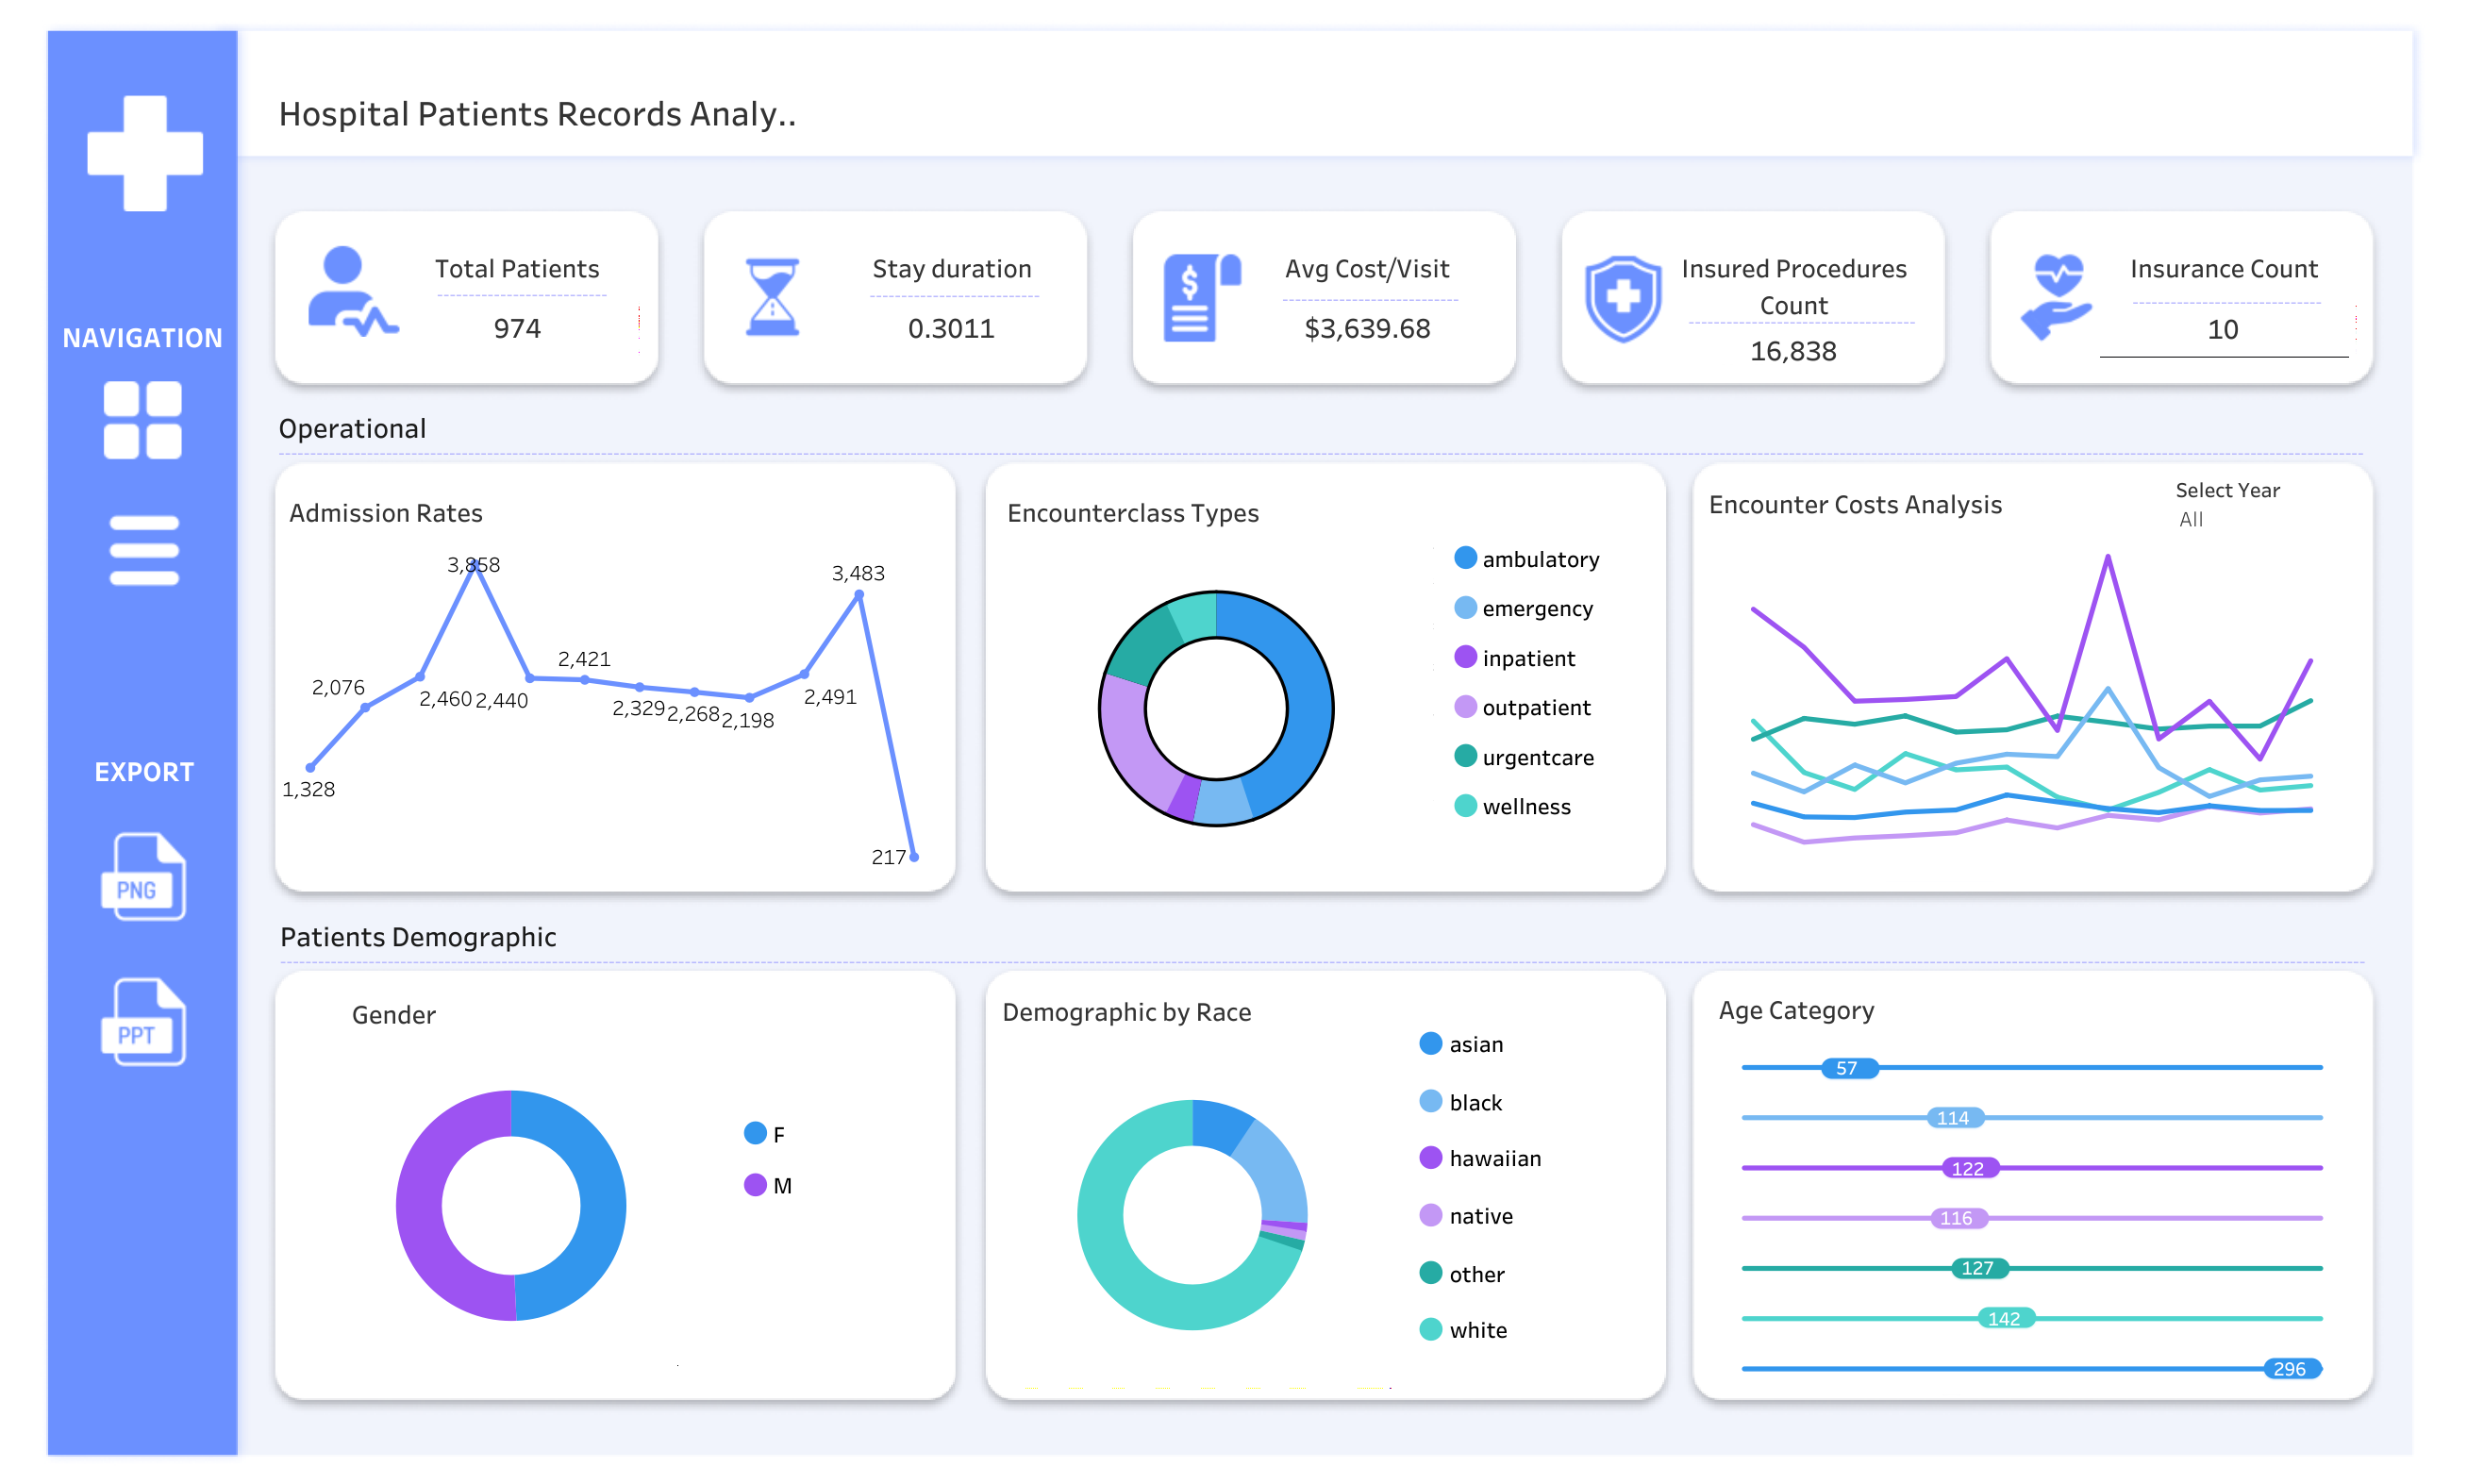

What the dashboard file says about the page in this screenshot:
{"tool":"tableau","page":{"name":"Overview","canvas":[1495,900],"ordinal":1},"visuals":[{"type":"image","param":"Image/Hospital Dashboard.png","box":[8,8,1479,884]},{"type":"text","box":[166.5,51.5,321.6,32.8]},{"type":"image","param":"Image/pharmacy.png","box":[53,58,70,71]},{"type":"worksheet","title":"Total Patients","mark":"Text","box":[241,145,145,69]},{"type":"worksheet","title":"Stay duration","mark":"Automatic","box":[508,145,138,68]},{"type":"worksheet","title":"Avg Cost/Visit","mark":"Automatic","box":[745,145,167,68]},{"type":"worksheet","title":"Insured Procedures Count","mark":"Text","box":[1009,145,156,75]},{"type":"worksheet","title":"Insurance Count","mark":"Text","box":[1269,145,157,70]},{"type":"image","param":"Image/heart-care.png","box":[1211,146,73,69]},{"type":"image","param":"Image/patient.png","box":[187,149,56,55]},{"type":"image","param":"Image/bill.png","box":[702,154,59,53]},{"type":"image","param":"Image/health-insurance.png","box":[956,154,57,55]},{"type":"image","param":"Image/hourglass.png","box":[443,155,56,50]},{"type":"text","box":[262,162,107,29]},{"type":"text","box":[524,163,113,30]},{"type":"text","box":[774,165,118,30]},{"type":"text","box":[1289,167,121,30]},{"type":"text","box":[1020,179,148,30]},{"type":"text","box":[30,188,113,30]},{"type":"dashboard-object","box":[30,231,114,47]},{"type":"text","box":[166,239,1271,38]},{"type":"text","box":[166,267,1270,11]},{"type":"filter","title":"Encounter Costs Analysis","param":"[federated.0sejw0f1yb4zil1a6oo03197j9nr].[yr:START:ok]","box":[1318,286,109,44]},{"type":"worksheet","title":"Encounter Costs Analysis","mark":"Automatic","rows":["TOTAL_CLAIM_COST"],"cols":["START"],"box":[1031,288,399,245]},{"type":"worksheet","title":"Admission Rates","mark":"Automatic","rows":["Calculation_14988577816236037"],"cols":["START"],"box":[171,293,399,236]},{"type":"worksheet","title":"Encounterclass Types","mark":"Pie","rows":["Calculation_14988577835847692","Calculation_14988577835847692"],"box":[606,293,261,235]},{"type":"dashboard-object","box":[30,300,115,67]},{"type":"worksheet","title":"Encounterclass Legend","mark":"Circle","rows":["ENCOUNTERCLASS"],"cols":["Calculation_14566365418131474"],"box":[777,322,220,181]},{"type":"text","box":[30,450,115,33]},{"type":"dashboard-object","box":[31,502,113,58]},{"type":"text","box":[167,547,1271,39]},{"type":"text","box":[167,574,1270,13]},{"type":"dashboard-object","box":[30,590,114,58]},{"type":"worksheet","title":"Age Category","mark":"Line","rows":["Calculation_14636734190182417"],"cols":["Id (patients.csv)"],"box":[1037,594,387,250]},{"type":"worksheet","title":"Demographic by Race","mark":"Pie","rows":["Calculation_14988577835847692","Calculation_14988577835847692"],"box":[603,595,239,245]},{"type":"worksheet","title":"Gender","mark":"Pie","rows":["Calculation_14988577835847692","Calculation_14988577835847692"],"box":[209,597,201,229]},{"type":"worksheet","title":"Race Legend","mark":"Circle","rows":["RACE"],"cols":["Calculation_14566365418131474"],"box":[733,614,267,208]},{"type":"worksheet","title":"Gender Legend","mark":"Circle","rows":["GENDER"],"cols":["Calculation_14566365418131474"],"box":[382,671,150,62]}]}

Visuals, with their boxes on the page's 1495x900 design canvas (x1, y1, x2, y2). These are canvas units, not pixel positions in the 2467x1484 screenshot, which may show the page scaled, cropped or inside an application window:
image: x1=8, y1=8, x2=1487, y2=892
text: x1=166, y1=52, x2=488, y2=84
image: x1=53, y1=58, x2=123, y2=129
"Total Patients" worksheet (Text marks): x1=241, y1=145, x2=386, y2=214
"Stay duration" worksheet: x1=508, y1=145, x2=646, y2=213
"Avg Cost/Visit" worksheet: x1=745, y1=145, x2=912, y2=213
"Insured Procedures Count" worksheet (Text marks): x1=1009, y1=145, x2=1165, y2=220
"Insurance Count" worksheet (Text marks): x1=1269, y1=145, x2=1426, y2=215
image: x1=1211, y1=146, x2=1284, y2=215
image: x1=187, y1=149, x2=243, y2=204
image: x1=702, y1=154, x2=761, y2=207
image: x1=956, y1=154, x2=1013, y2=209
image: x1=443, y1=155, x2=499, y2=205
text: x1=262, y1=162, x2=369, y2=191
text: x1=524, y1=163, x2=637, y2=193
text: x1=774, y1=165, x2=892, y2=195
text: x1=1289, y1=167, x2=1410, y2=197
text: x1=1020, y1=179, x2=1168, y2=209
text: x1=30, y1=188, x2=143, y2=218
dashboard-object: x1=30, y1=231, x2=144, y2=278
text: x1=166, y1=239, x2=1437, y2=277
text: x1=166, y1=267, x2=1436, y2=278
"Encounter Costs Analysis" filter: x1=1318, y1=286, x2=1427, y2=330
"Encounter Costs Analysis" worksheet: x1=1031, y1=288, x2=1430, y2=533
"Admission Rates" worksheet: x1=171, y1=293, x2=570, y2=529
"Encounterclass Types" worksheet (Pie marks): x1=606, y1=293, x2=867, y2=528
dashboard-object: x1=30, y1=300, x2=145, y2=367
"Encounterclass Legend" worksheet (Circle marks): x1=777, y1=322, x2=997, y2=503
text: x1=30, y1=450, x2=145, y2=483
dashboard-object: x1=31, y1=502, x2=144, y2=560
text: x1=167, y1=547, x2=1438, y2=586
text: x1=167, y1=574, x2=1437, y2=587
dashboard-object: x1=30, y1=590, x2=144, y2=648
"Age Category" worksheet (Line marks): x1=1037, y1=594, x2=1424, y2=844
"Demographic by Race" worksheet (Pie marks): x1=603, y1=595, x2=842, y2=840
"Gender" worksheet (Pie marks): x1=209, y1=597, x2=410, y2=826
"Race Legend" worksheet (Circle marks): x1=733, y1=614, x2=1000, y2=822
"Gender Legend" worksheet (Circle marks): x1=382, y1=671, x2=532, y2=733
